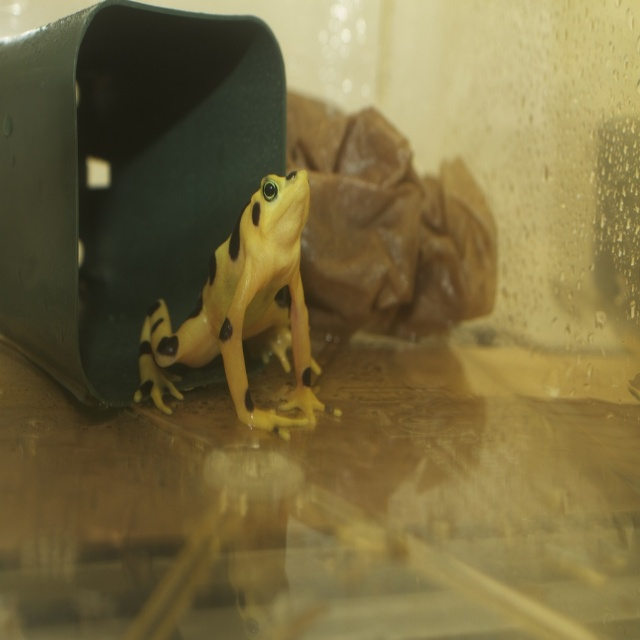Frog: (132, 168, 343, 443)
